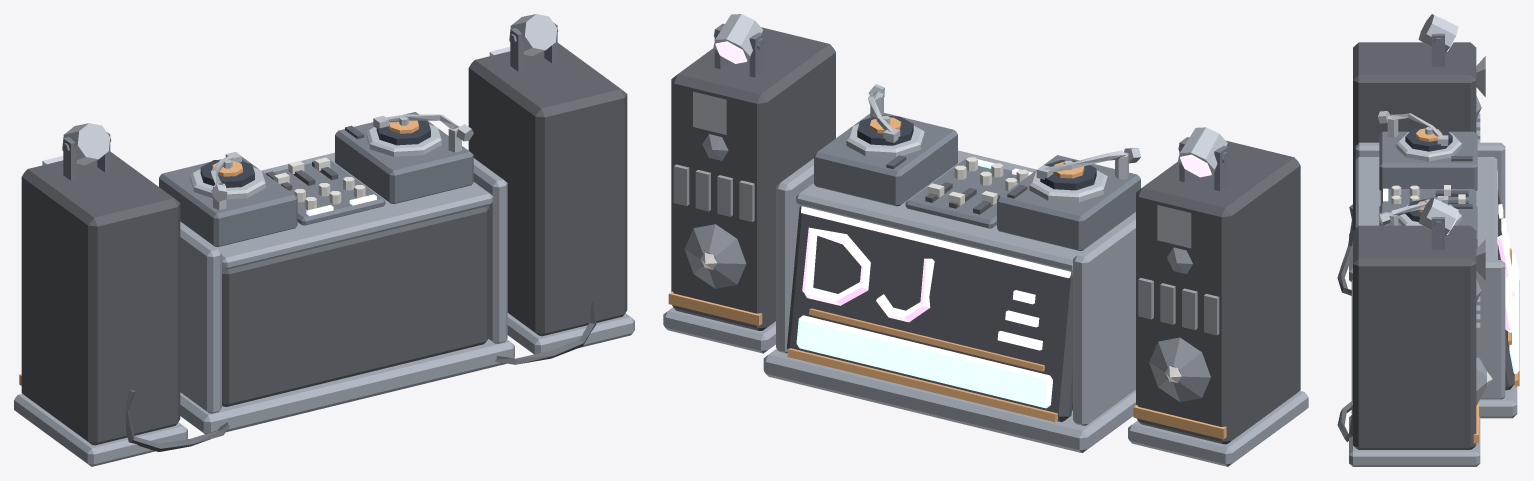
The model's file is DJBooth.fbx.
3 views of the same model, side by side, from view 1: azimuth 30°, elevation 25°; view 2: azimuth 150°, elevation 25°; view 3: azimuth 270°, elevation 25° (orthographic). The views are drawn at different scales.
Visible parts, largest first — view 1: DJBooth.Shell, DJBooth.Frame, DJBooth.Consoles, DJBooth.Hardware, DJBooth.Cables, DJBooth.Records, DJBooth.Knobs, DJBooth.Trim; view 2: DJBooth.Shell, DJBooth.Frame, DJBooth.Consoles, DJBooth.Hardware, DJBooth.LedStrip, DJBooth.Trim, DJBooth.SpotGlow, DJBooth.Letters, DJBooth.Knobs, DJBooth.Records; view 3: DJBooth.Shell, DJBooth.Frame, DJBooth.Consoles, DJBooth.Hardware, DJBooth.Letters, DJBooth.Cables, DJBooth.LedStrip, DJBooth.Records, DJBooth.Trim, DJBooth.Knobs, DJBooth.SpotGlow.
Boxes of the visible parts, x1,y1,x2,y2 form: DJBooth.Shell: (21,43,627,445); DJBooth.Frame: (14,152,634,466); DJBooth.Consoles: (62,22,558,246); DJBooth.Hardware: (42,14,557,209); DJBooth.Cables: (125,300,596,451); DJBooth.Records: (200,120,430,187); DJBooth.Knobs: (274,157,365,210); DJBooth.Trim: (19,120,418,385); DJBooth.Shell: (671,27,1300,444); DJBooth.Frame: (663,134,1308,466); DJBooth.Consoles: (713,23,1228,250); DJBooth.Hardware: (693,14,1227,248); DJBooth.LedStrip: (796,159,1052,408); DJBooth.Trim: (668,117,1226,439); DJBooth.SpotGlow: (715,41,1211,350); DJBooth.Letters: (802,168,1032,322); DJBooth.Knobs: (700,157,1181,383); DJBooth.Records: (857,115,1096,190); DJBooth.Shell: (1353,42,1514,449); DJBooth.Frame: (1349,95,1517,466); DJBooth.Consoles: (1379,19,1477,249); DJBooth.Hardware: (1378,14,1485,280); DJBooth.Letters: (1383,188,1514,332); DJBooth.Cables: (1337,204,1352,441); DJBooth.LedStrip: (1509,252,1519,374); DJBooth.Records: (1405,127,1452,221); DJBooth.Trim: (1416,128,1519,443); DJBooth.Knobs: (1391,185,1492,386); DJBooth.SpotGlow: (1447,29,1509,259).
Bounding box in the file's own units: 8.08 × 4.19 × 2.77.
